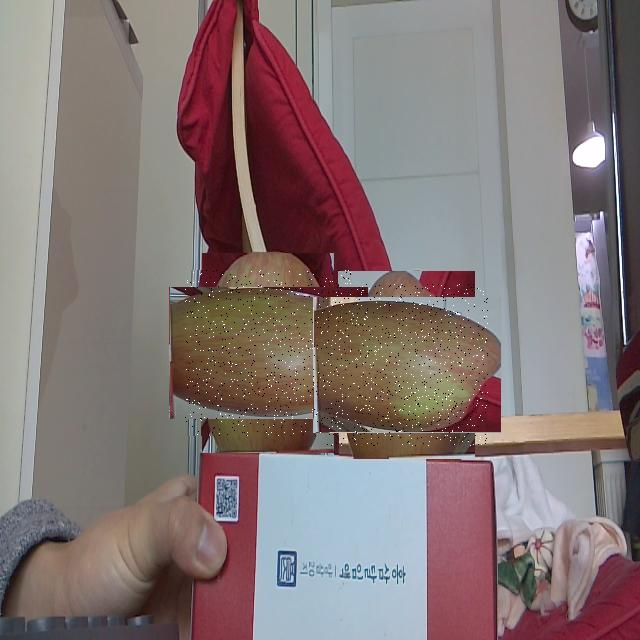apple: (186, 270, 352, 437), (326, 284, 488, 446)
